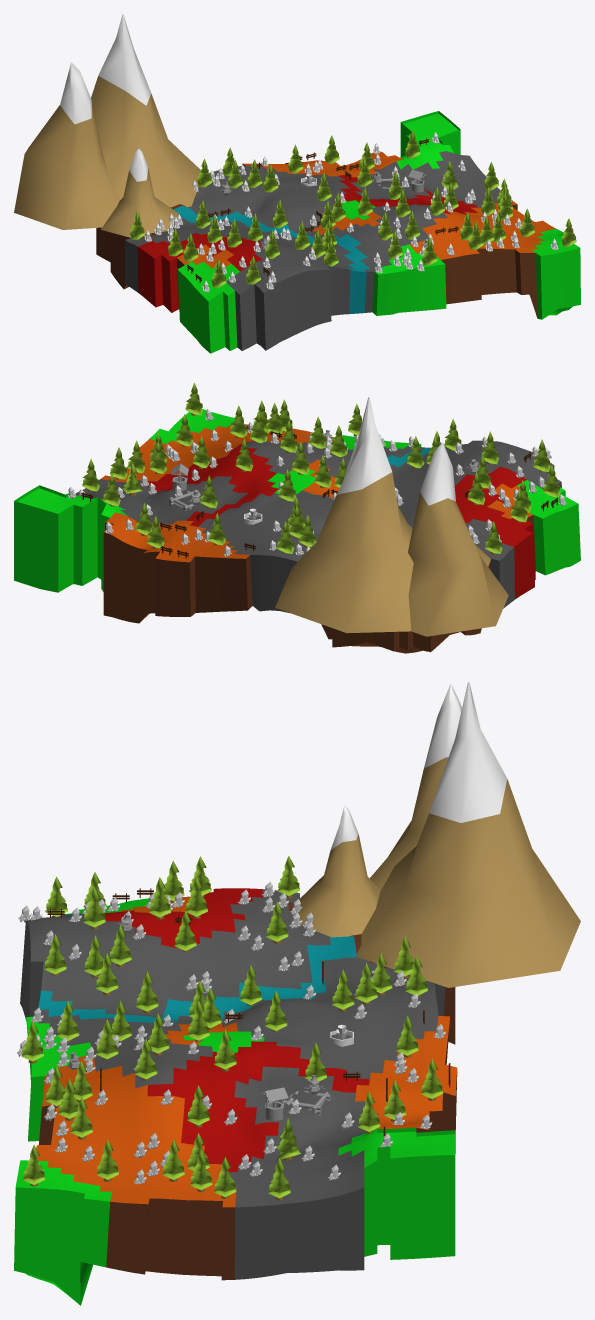
The model's file is IleA.FBX.
The picture shows the model from 3 angles, top to bottom: view 1: azimuth 30°, elevation 25°; view 2: azimuth 150°, elevation 25°; view 3: azimuth 270°, elevation 25°; orthographic projection. The views are drawn at different scales.
Parts seen in each view (by area): view 1: ile hiver, Montagne, Object; view 2: ile hiver, Montagne, Object; view 3: ile hiver, Montagne, Object.
Part boxes in pixels (x1=…): ile hiver: x1=96, y1=111, x2=580, y2=353; Montagne: x1=14, y1=14, x2=200, y2=237; Object: x1=396, y1=113, x2=458, y2=169; ile hiver: x1=14, y1=409, x2=580, y2=653; Montagne: x1=275, y1=397, x2=508, y2=636; Object: x1=17, y1=488, x2=127, y2=517; ile hiver: x1=14, y1=888, x2=457, y2=1305; Montagne: x1=298, y1=682, x2=580, y2=987; Object: x1=338, y1=1128, x2=455, y2=1167.
Size of the model in its own units: 2172 by 1719 by 1357.
